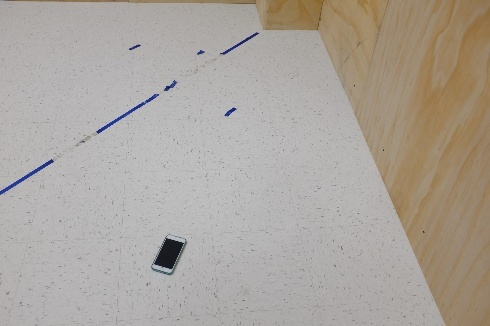phone: (145, 239, 194, 271)
